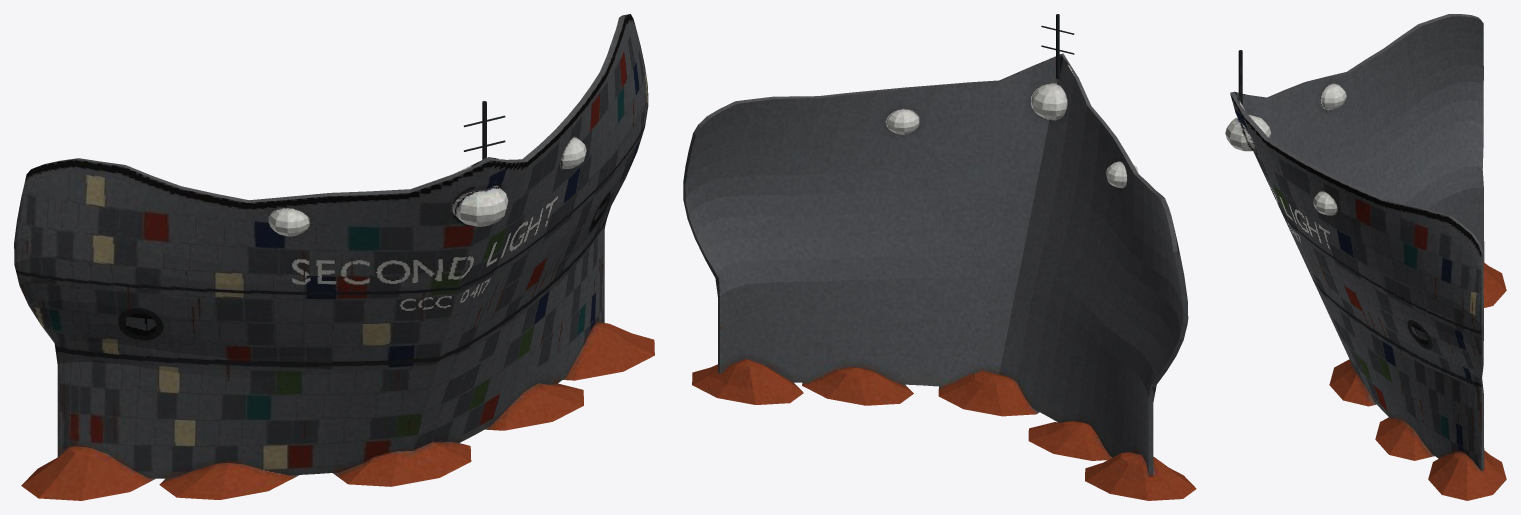
Rendered from hull_bow.glb.
The picture shows the model from 3 angles, left to right: view 1: azimuth 30°, elevation 25°; view 2: azimuth 150°, elevation 25°; view 3: azimuth 270°, elevation 25°; orthographic projection. The views are drawn at different scales.
Visible parts, largest first — view 1: hull_bow; view 2: hull_bow; view 3: hull_bow.
Part boxes in pixels (bbox=[...]): hull_bow: bbox=[14, 14, 654, 500]; hull_bow: bbox=[683, 14, 1196, 500]; hull_bow: bbox=[1225, 14, 1506, 500].
Size of the model in its own units: 37.44 by 23.72 by 18.34.
1 material, 1 textured.
